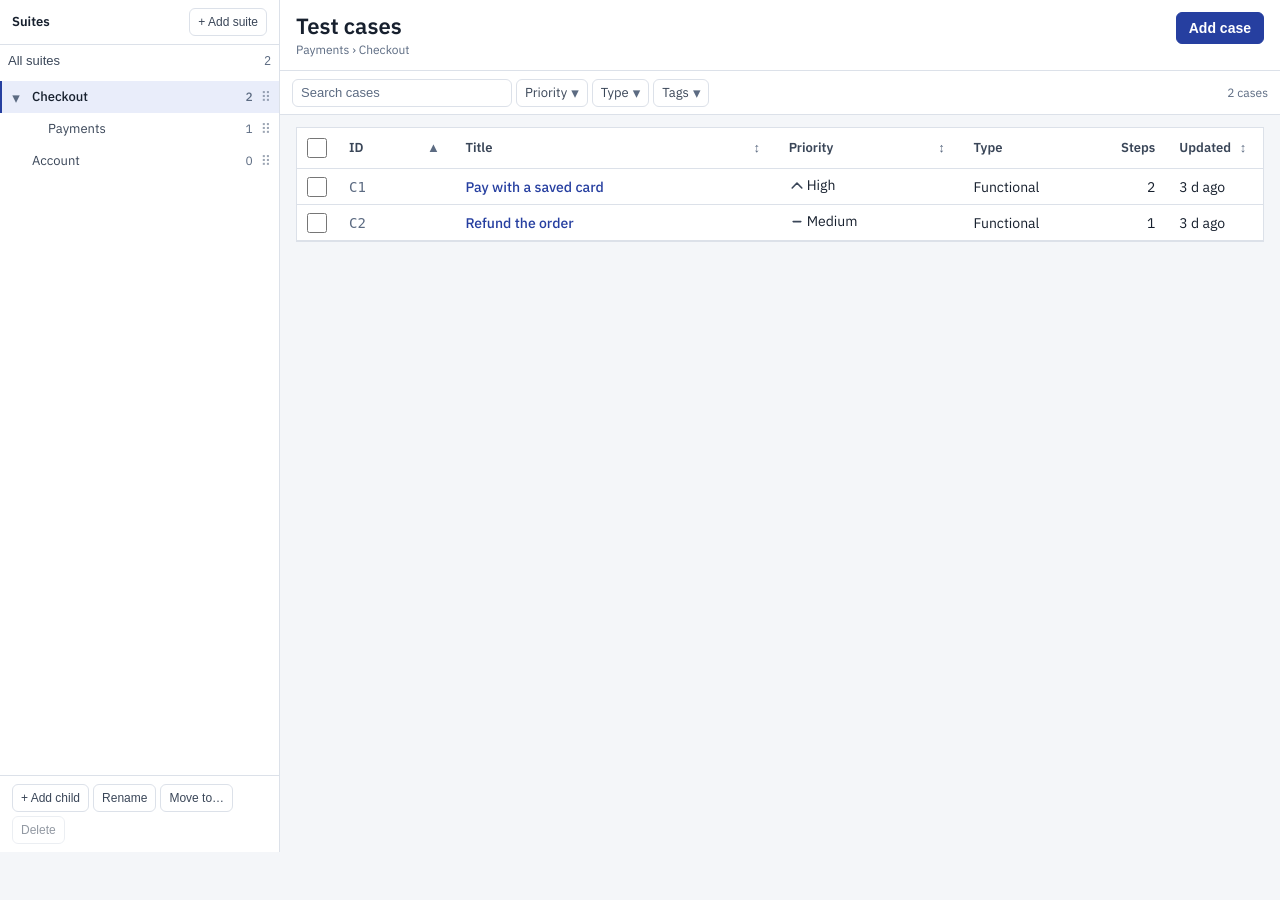
Test case: cases screen › explains that there is no open run to add to
Expected: the button with aria-label "Open C1" is shown, [465,176,604,196]
Step 1. Click the checkbox named "Select row 1" → [317, 186], box [307,176,327,196]
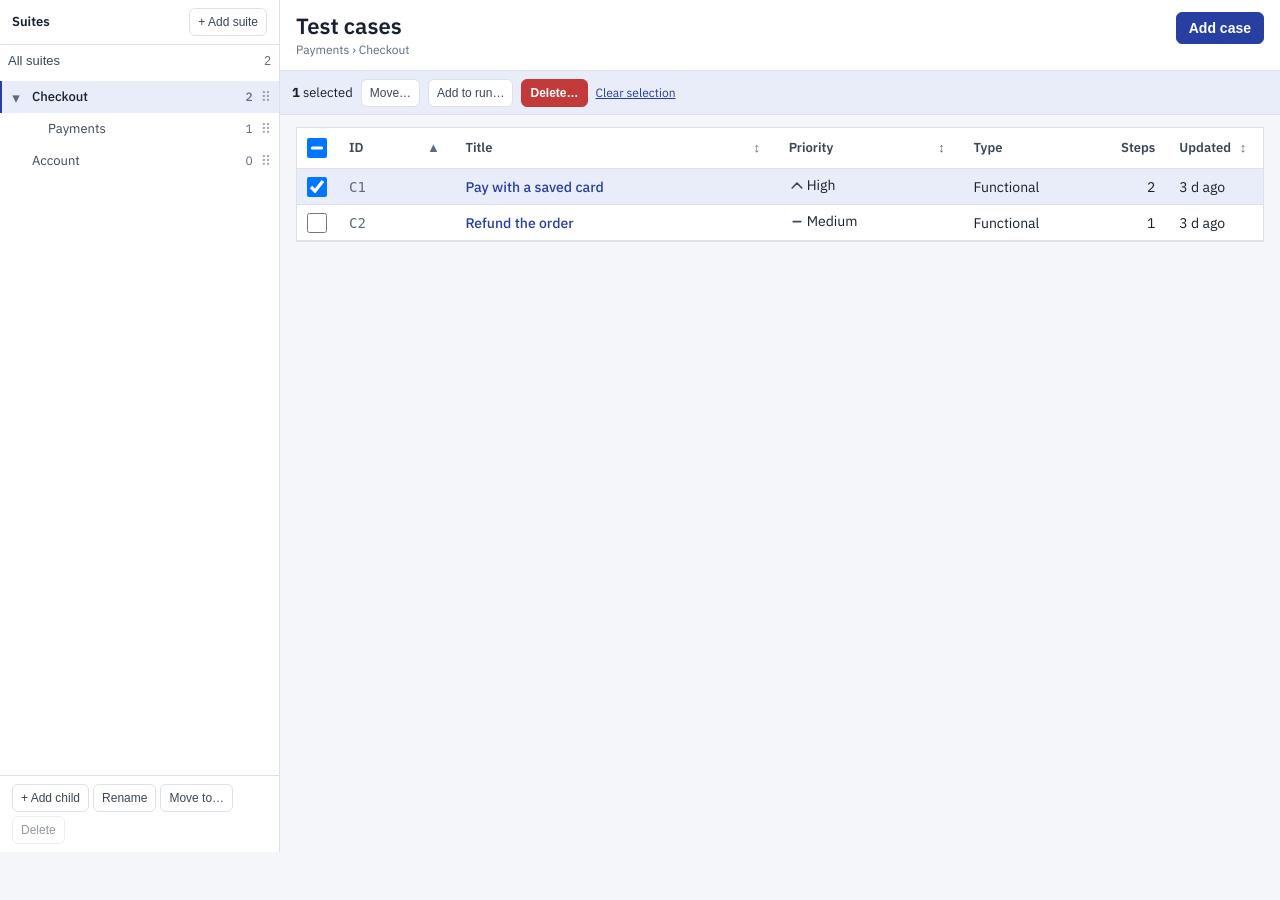
Step 2. Click the button "Add to run…" → [471, 92], box [428,78,514,106]
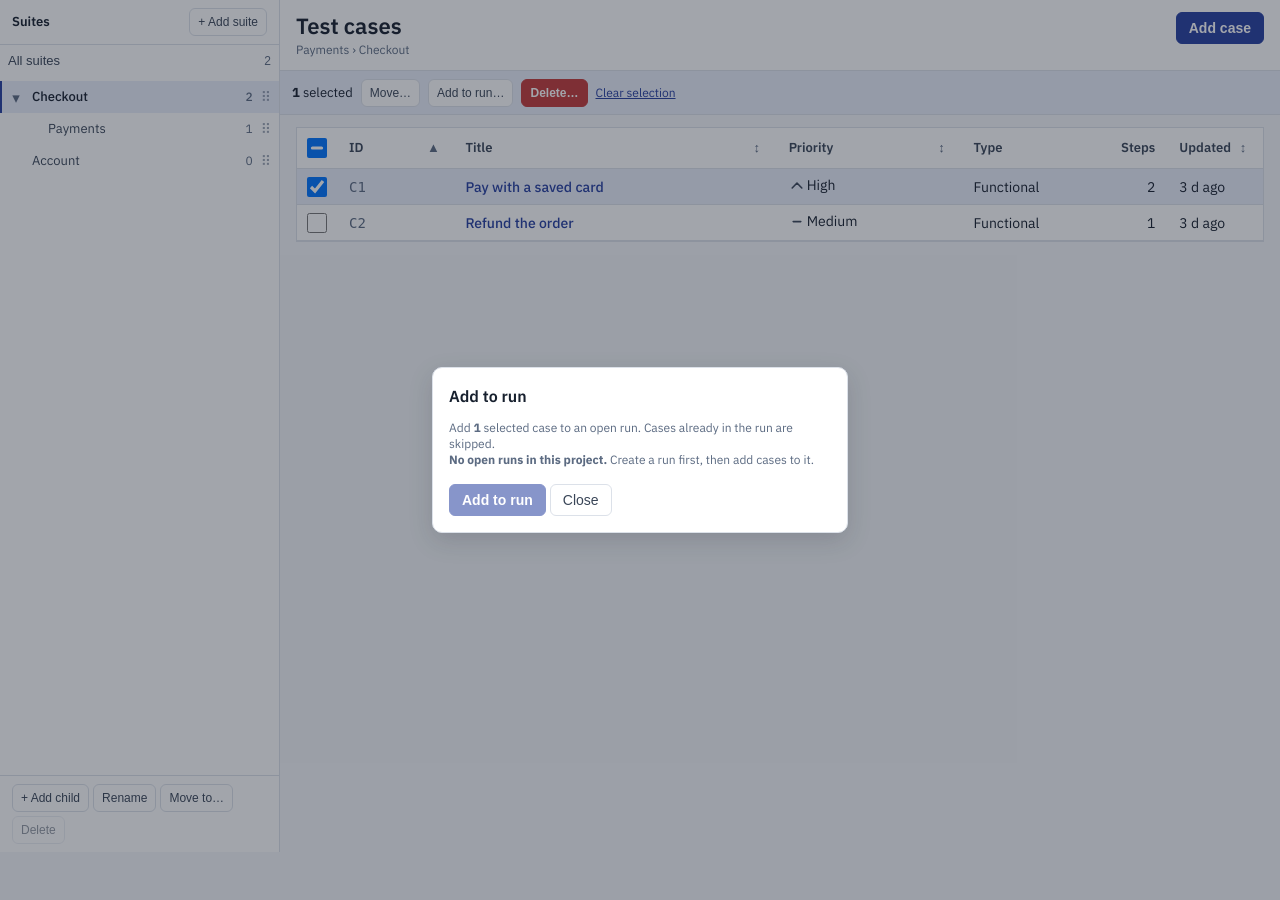
Now the text "No open runs in this project." is shown, box [449,452,607,467]
Now the button "Add to run" is disabled, box [449,484,546,516]
Now the button "Close" is shown, box [550,484,612,516]
